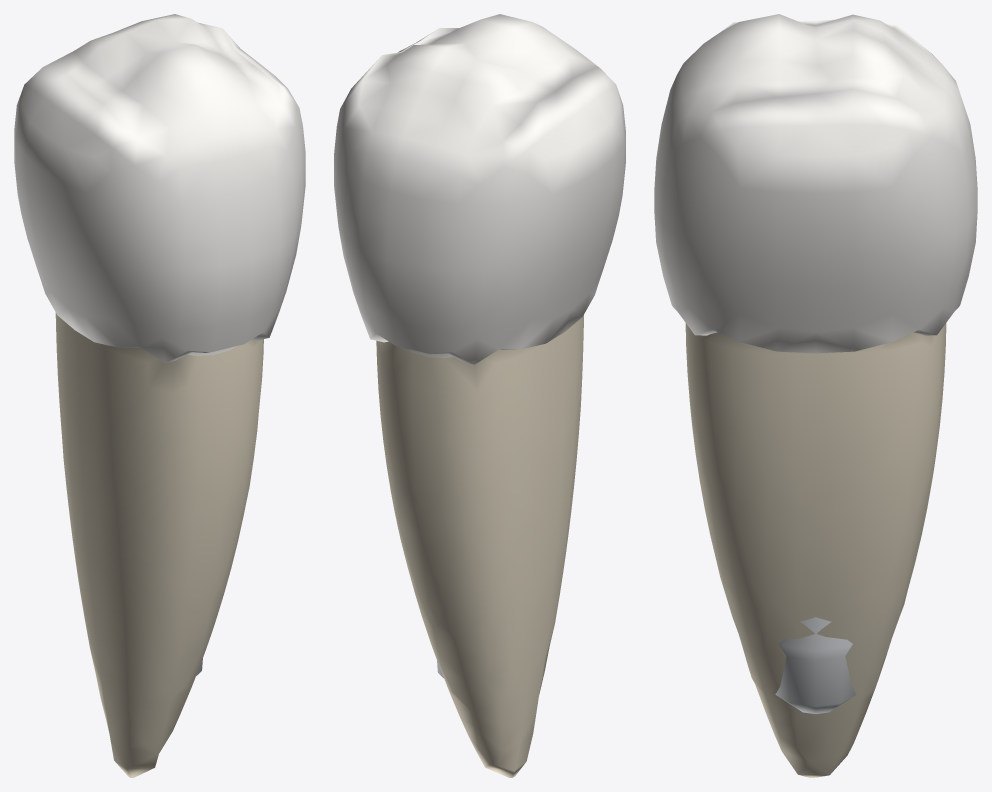
3 views of the same model, side by side, from view 1: azimuth 30°, elevation 25°; view 2: azimuth 150°, elevation 25°; view 3: azimuth 270°, elevation 25° (orthographic). The views are drawn at different scales.
Parts seen in each view (by area): view 1: crown, root; view 2: crown, root; view 3: crown, root, implant.
Part boxes in pixels (x1=…): crown: x1=14, y1=14, x2=305, y2=363; root: x1=55, y1=313, x2=263, y2=777; crown: x1=334, y1=14, x2=625, y2=364; root: x1=376, y1=315, x2=583, y2=777; crown: x1=654, y1=14, x2=977, y2=353; root: x1=685, y1=323, x2=946, y2=777; implant: x1=775, y1=617, x2=855, y2=713.
Bounding box in the file's own units: 7.7 × 22.77 × 8.66.
